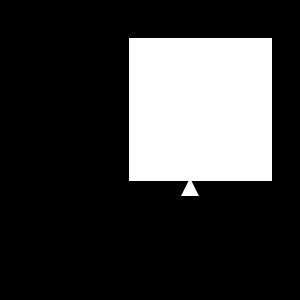circle: (129, 38, 272, 181), (145, 68, 154, 77)
triangle: (137, 100, 191, 154), (181, 178, 199, 196)
